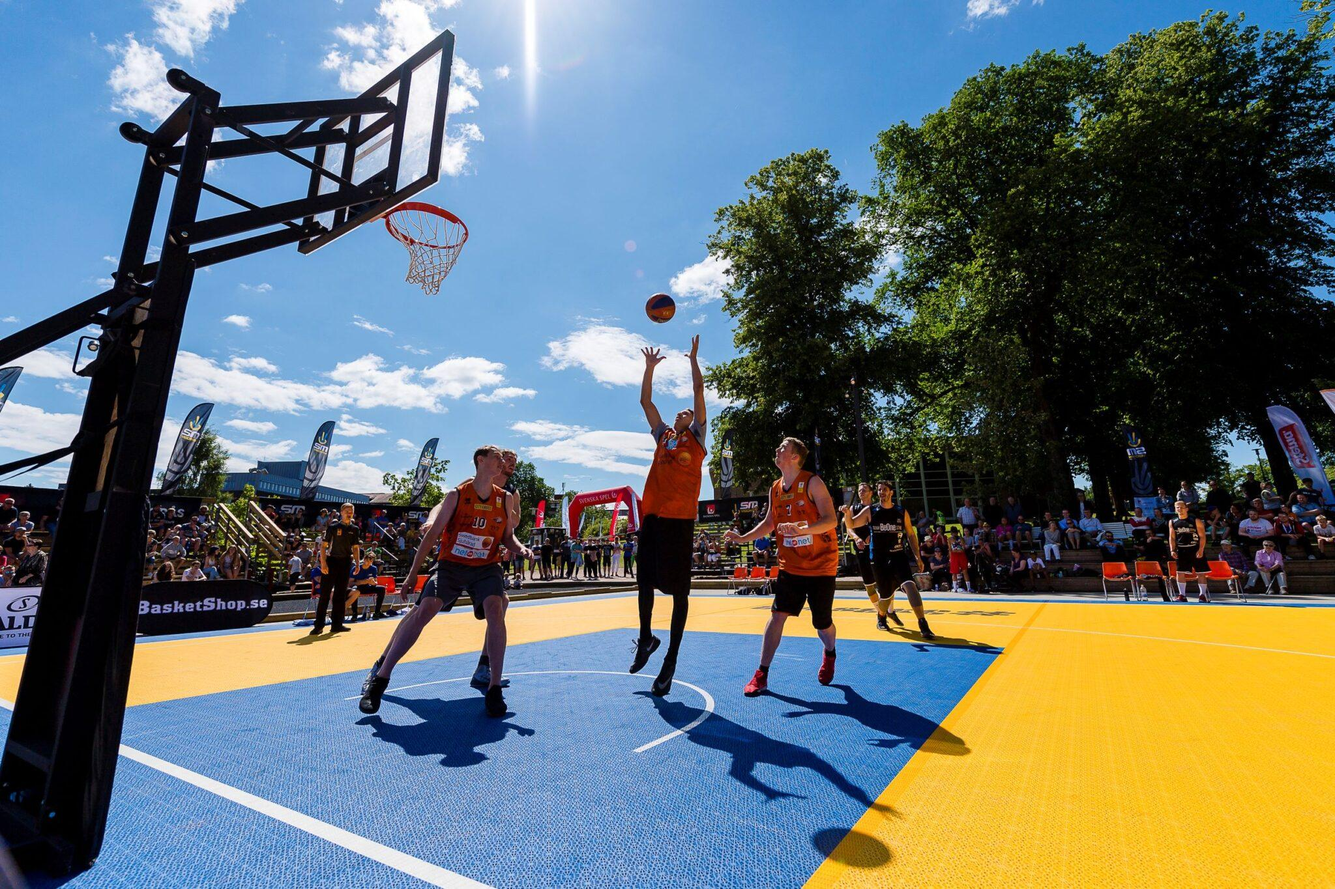basketball: (648, 292, 681, 324)
